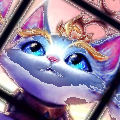Yuumi: (1, 1, 120, 118)
